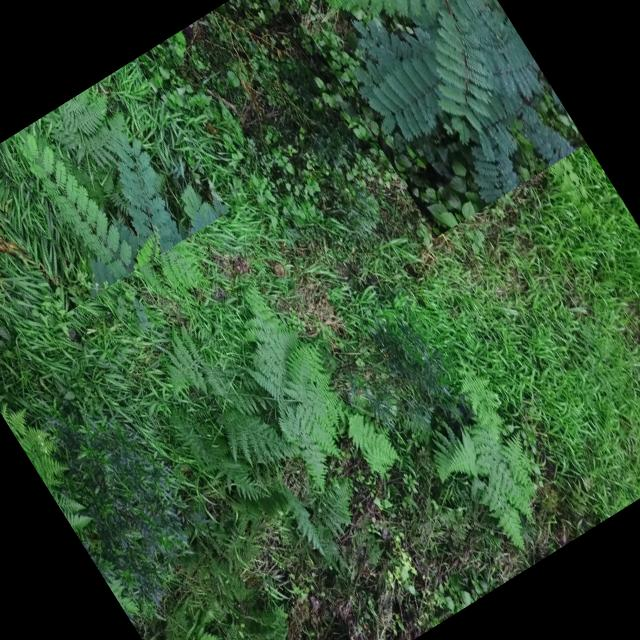Mysore-Thorn-Weed: (271, 0, 586, 236), (0, 59, 229, 312)
